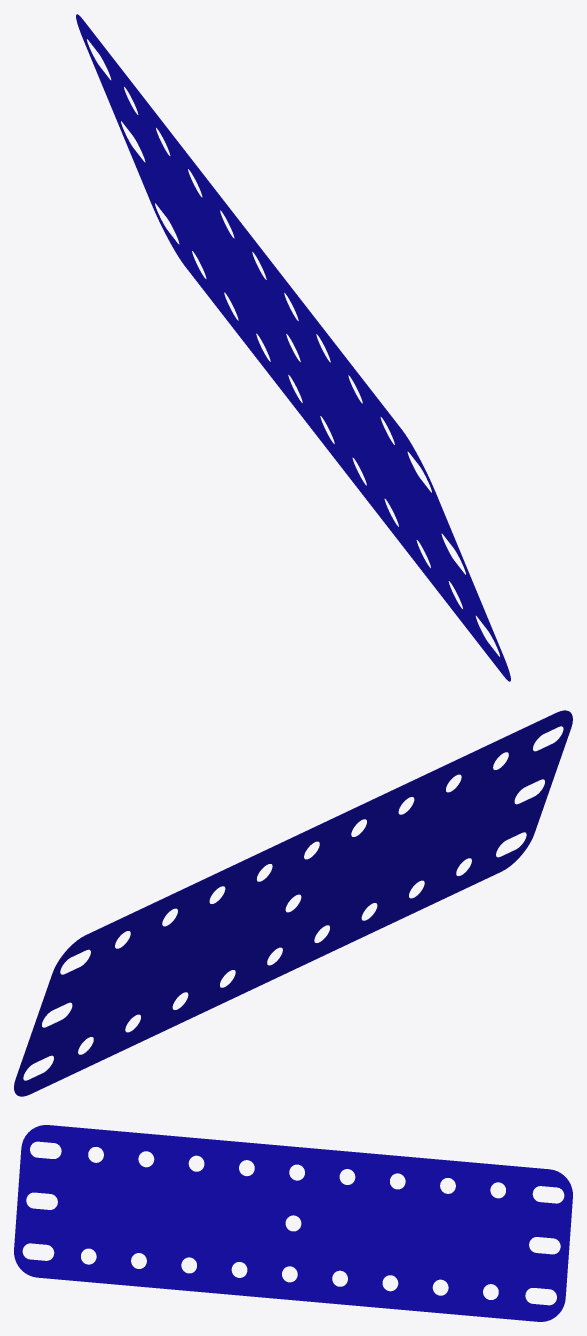
The model's file is TamPhang_3x11_Nhua_XanhDuong.glb.
3 renders of one model, top to bottom at view 1: azimuth 30°, elevation 25°; view 2: azimuth 150°, elevation 25°; view 3: azimuth 270°, elevation 25°, orthographic. The views are drawn at different scales.
Visible parts, largest first — view 1: defaultobject.001; view 2: defaultobject.001; view 3: defaultobject.001.
Part boxes in pixels (x1,y1,x2,y2): defaultobject.001: [76, 14, 510, 681]; defaultobject.001: [14, 710, 572, 1096]; defaultobject.001: [14, 1125, 572, 1321].
Bounding box in the file's own units: 99.15 × 88.89 × 345.
